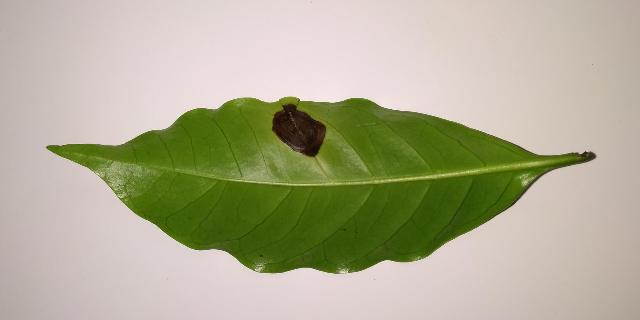rust: (272, 104, 326, 157)
